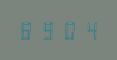eight: (18, 20, 37, 40)
four: (78, 20, 97, 40)
nine: (38, 20, 57, 40)
zero: (58, 20, 77, 40)
